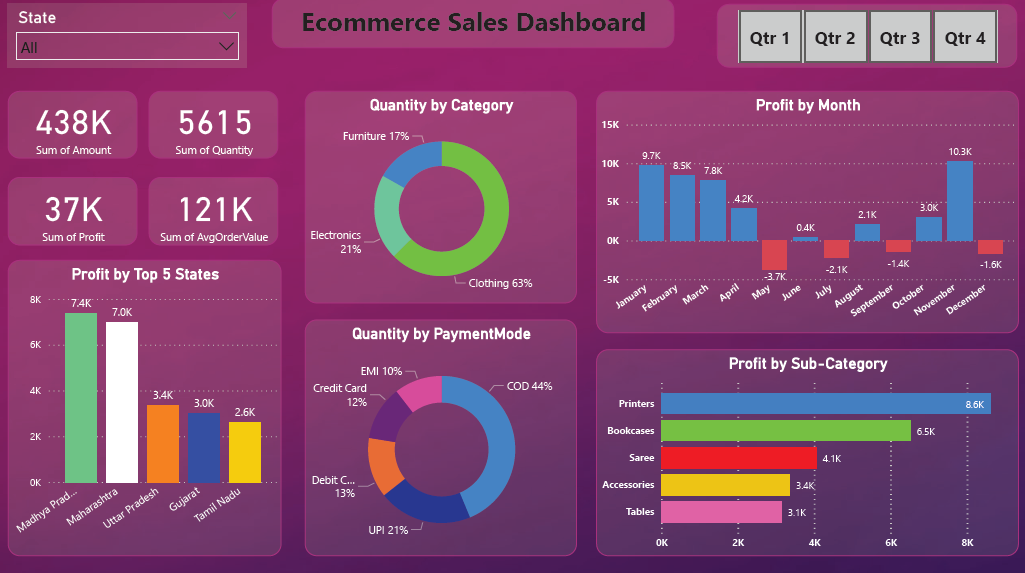

This screenshot's page, from the dashboard's own definition file:
{"tool":"powerbi","page":{"name":"Page 1","canvas":[1280,720],"ordinal":0},"visuals":[{"type":"textbox","box":[340.9,0,500,62],"z":0},{"type":"columnChart","title":"Profit by Month","fields":{"Y":["Sum(Details.Profit)"],"Category":["Orders.Order Date.Variation.Date Hierarchy.Month"]},"box":[744,114.6,524.8,301.3],"z":1000},{"type":"clusteredBarChart","title":"Profit by Sub-Category","fields":{"Category":["Details.Sub-Category"],"Y":["Sum(Details.Profit)"]},"box":[744,435.7,524.8,257.4],"z":2000},{"type":"pieChart","title":"Quantity by Category","fields":{"Category":["Details.Category"],"Y":["Sum(Details.Quantity)"]},"box":[381.9,114.6,338.1,264.5],"z":3000},{"type":"pieChart","title":"Quantity by PaymentMode","fields":{"Y":["Sum(Details.Quantity)"],"Category":["Details.PaymentMode"]},"box":[381.8,398.6,338.1,294.3],"z":4000},{"type":"card","fields":{"Values":["Sum(Details.Amount)"]},"box":[12.7,114.6,161.3,84.9],"z":5000},{"type":"card","fields":{"Values":["Sum(Details.Profit)"]},"box":[12.7,222.1,161.3,85],"z":6000},{"type":"card","fields":{"Values":["Sum(Details.Quantity)"]},"box":[188.1,114.6,161,84.9],"z":7000},{"type":"card","fields":{"Values":["Sum(Details.AvgOrderValue)"]},"box":[188.1,222.1,161,85],"z":8000},{"type":"slicer","fields":{"Values":["Orders.Order Date.Variation.Date Hierarchy.Quarter"]},"box":[894,7.1,373,79.2],"z":9000},{"type":"slicer","fields":{"Values":["Orders.State"]},"box":[12.7,7.1,297.1,79.2],"z":10000},{"type":"clusteredColumnChart","title":"Profit by Top 5 States","fields":{"Category":["Orders.State"],"Y":["Sum(Details.Profit)"]},"box":[13.5,324.6,339.8,368.4],"z":11000}]}

Visuals, with their boxes in screenshot pixels (x1, y1, x2, y2), scaled from the page's 1280x720 canvas onto the 1025x573 screenshot:
textbox: BBox(273, 0, 673, 49)
"Profit by Month" columnChart: BBox(596, 91, 1016, 331)
"Profit by Sub-Category" clusteredBarChart: BBox(596, 347, 1016, 552)
"Quantity by Category" pieChart: BBox(306, 91, 577, 302)
"Quantity by PaymentMode" pieChart: BBox(306, 317, 576, 551)
card - Sum(Details.Amount): BBox(10, 91, 139, 159)
card - Sum(Details.Profit): BBox(10, 177, 139, 244)
card - Sum(Details.Quantity): BBox(151, 91, 280, 159)
card - Sum(Details.AvgOrderValue): BBox(151, 177, 280, 244)
slicer - Orders.Order Date.Variation.Date Hierarchy.Quarter: BBox(716, 6, 1015, 69)
slicer - Orders.State: BBox(10, 6, 248, 69)
"Profit by Top 5 States" clusteredColumnChart: BBox(11, 258, 283, 552)
